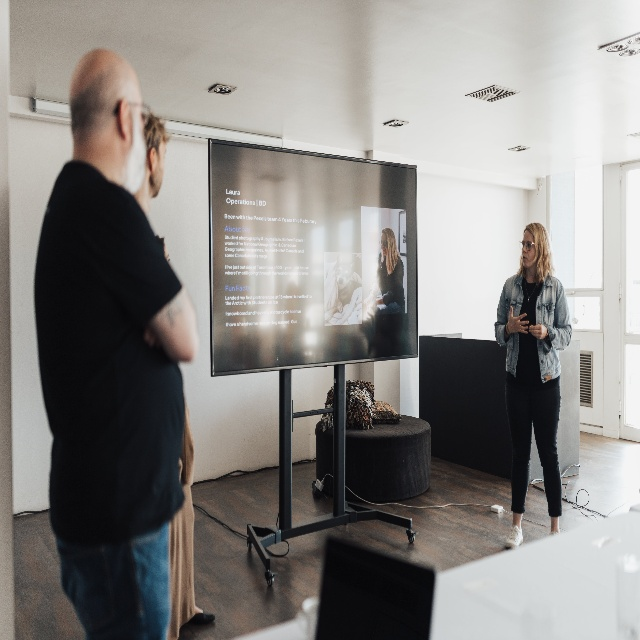Gafas: (519, 240, 535, 251), (379, 239, 387, 246)
Sin_guantes: (508, 305, 529, 335), (529, 324, 547, 339), (362, 296, 372, 309)
